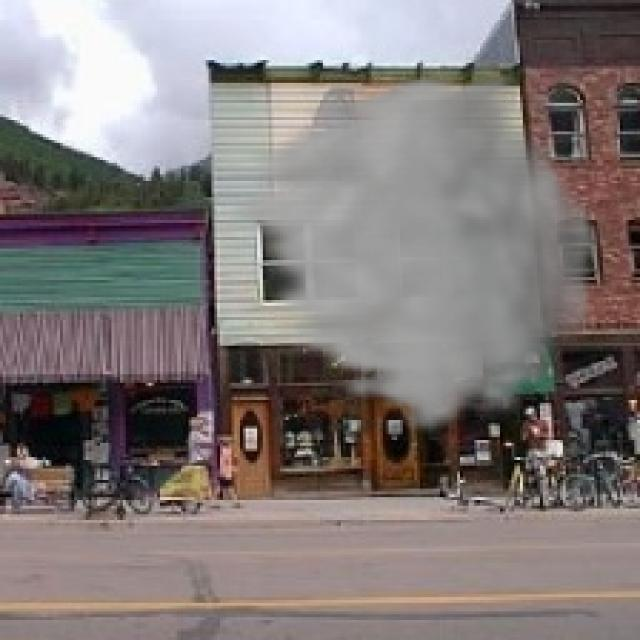smoke: (217, 72, 606, 437)
